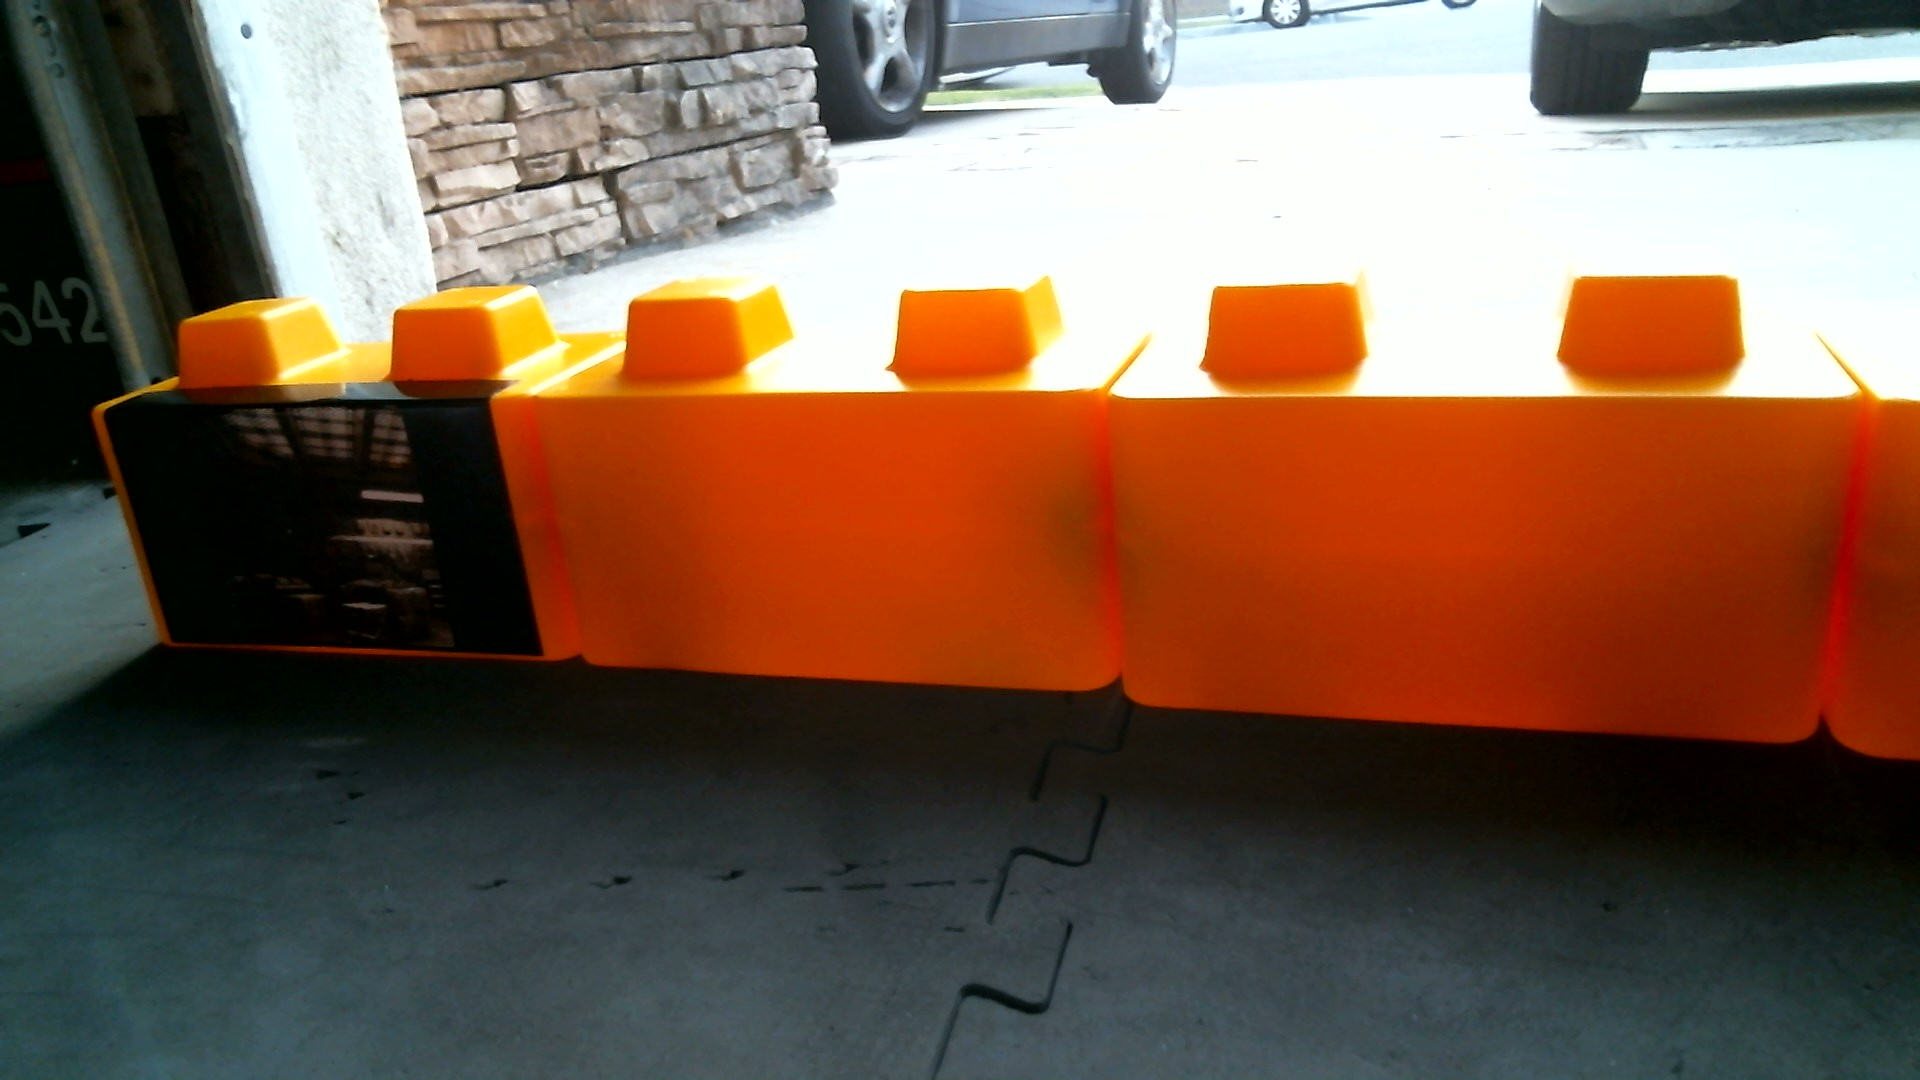left: (84, 239, 1919, 770)
